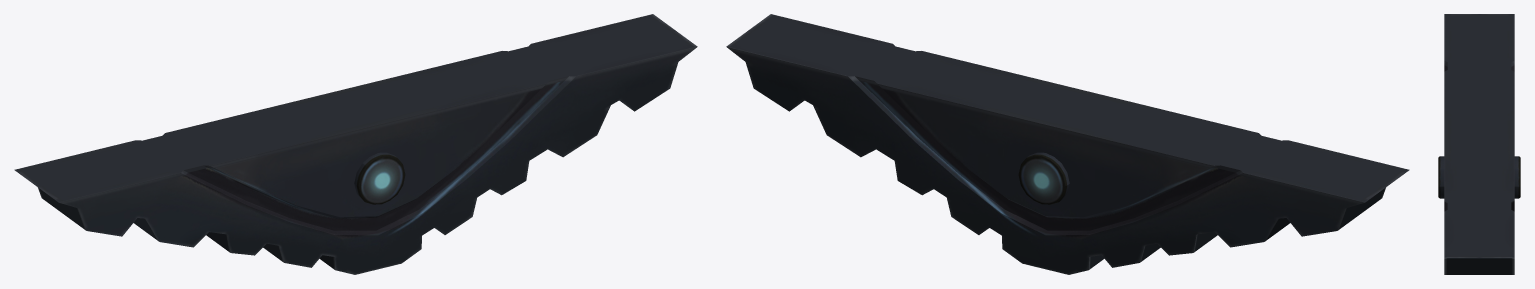
Rendered from Platform_Default.FBX.
3 views of the same model, side by side, from view 1: azimuth 30°, elevation 25°; view 2: azimuth 150°, elevation 25°; view 3: azimuth 270°, elevation 25° (orthographic). The views are drawn at different scales.
Parts seen in each view (by area): view 1: Platform001_Default; view 2: Platform001_Default; view 3: Platform001_Default.
Part boxes in pixels (box(x1,y1,x2,y2)): Platform001_Default: box(14, 14, 697, 274); Platform001_Default: box(726, 14, 1409, 274); Platform001_Default: box(1438, 14, 1520, 274).
Size of the model in its own units: 74.11 by 16.02 by 10.58.
